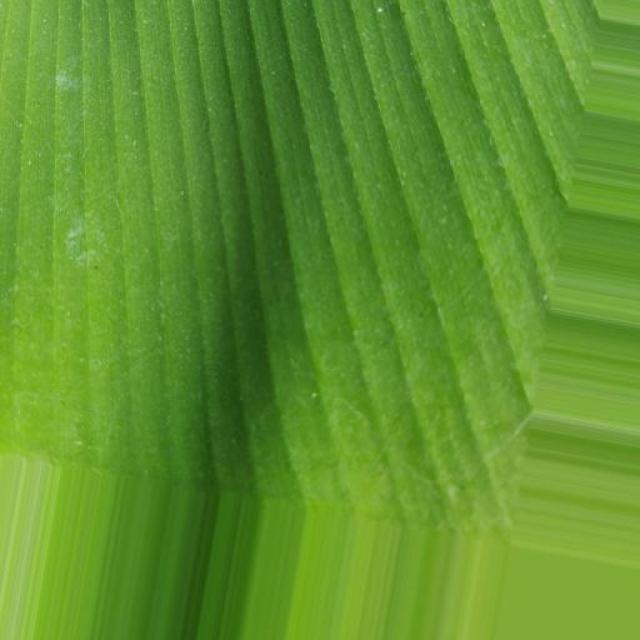Black_leaf_spot: (0, 0, 593, 543)
